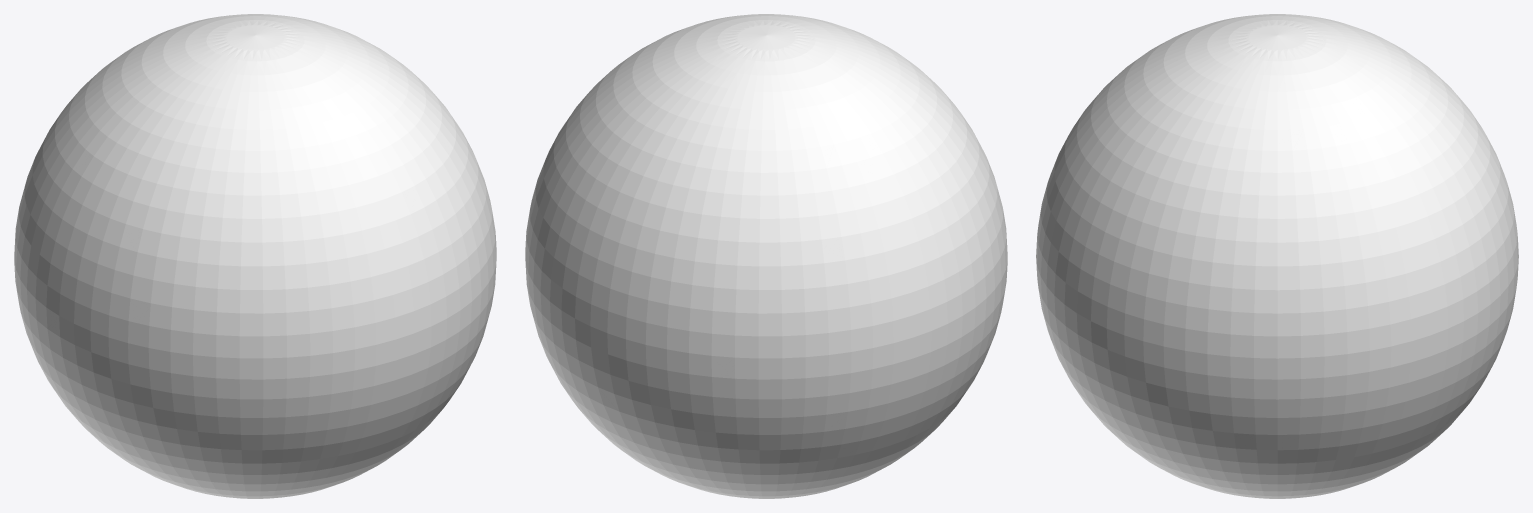
File: earth.obj
3 views of the same model, side by side, from view 1: azimuth 30°, elevation 25°; view 2: azimuth 150°, elevation 25°; view 3: azimuth 270°, elevation 25° (orthographic).
Parts seen in each view (by area): view 1: earth; view 2: earth; view 3: earth.
Boxes of the visible parts, <box> form: earth: <box>14,14,496,498</box>; earth: <box>525,14,1007,498</box>; earth: <box>1036,14,1518,498</box>.
Bounding box in the file's own units: 1.97 × 2 × 1.97.
1 material, 1 textured.
